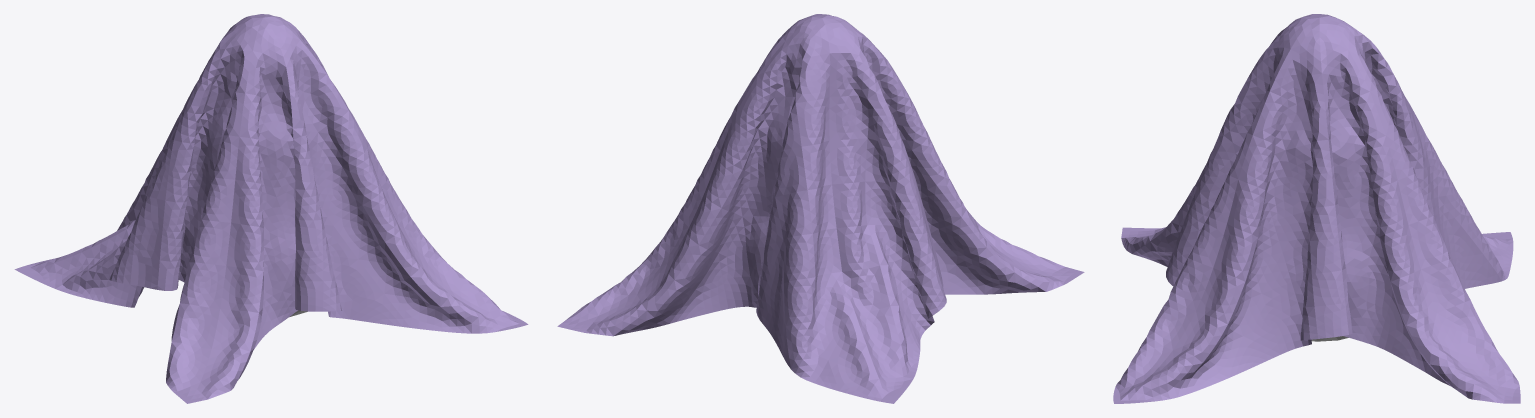
Rendered from level_2.glb.
3 views of the same model, side by side, from view 1: azimuth 30°, elevation 25°; view 2: azimuth 150°, elevation 25°; view 3: azimuth 270°, elevation 25° (orthographic). The views are drawn at different scales.
Parts seen in each view (by area): view 1: world; view 2: world; view 3: world.
Boxes of the visible parts, x1,y1,x2,y2 form: world: [14, 14, 528, 403]; world: [557, 14, 1084, 403]; world: [1113, 14, 1520, 403].
Bounding box in the file's own units: 0.3755 × 0.2957 × 0.3666.
